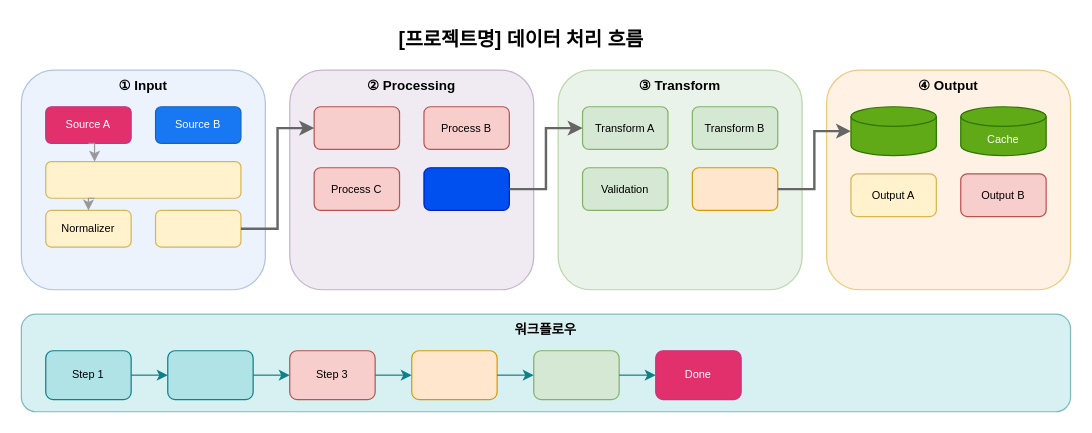
This 1092x433 diagram has some shape labels left out. Each missing label, with the centre of its shape:
AI Engine: the point at 466,188
Data Collector: the point at 143,179
Database: the point at 893,131
Human Review: the point at 734,188
Process A: the point at 356,127
Queue: the point at 197,228
Step 2: the point at 210,375
Step 4: the point at 454,375
Step 5: the point at 576,375
